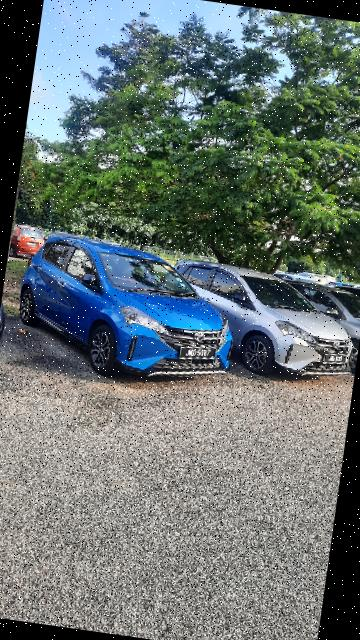License_Plate: (177, 343, 219, 365), (323, 352, 349, 367)
car: (12, 231, 246, 389), (161, 255, 360, 387)
